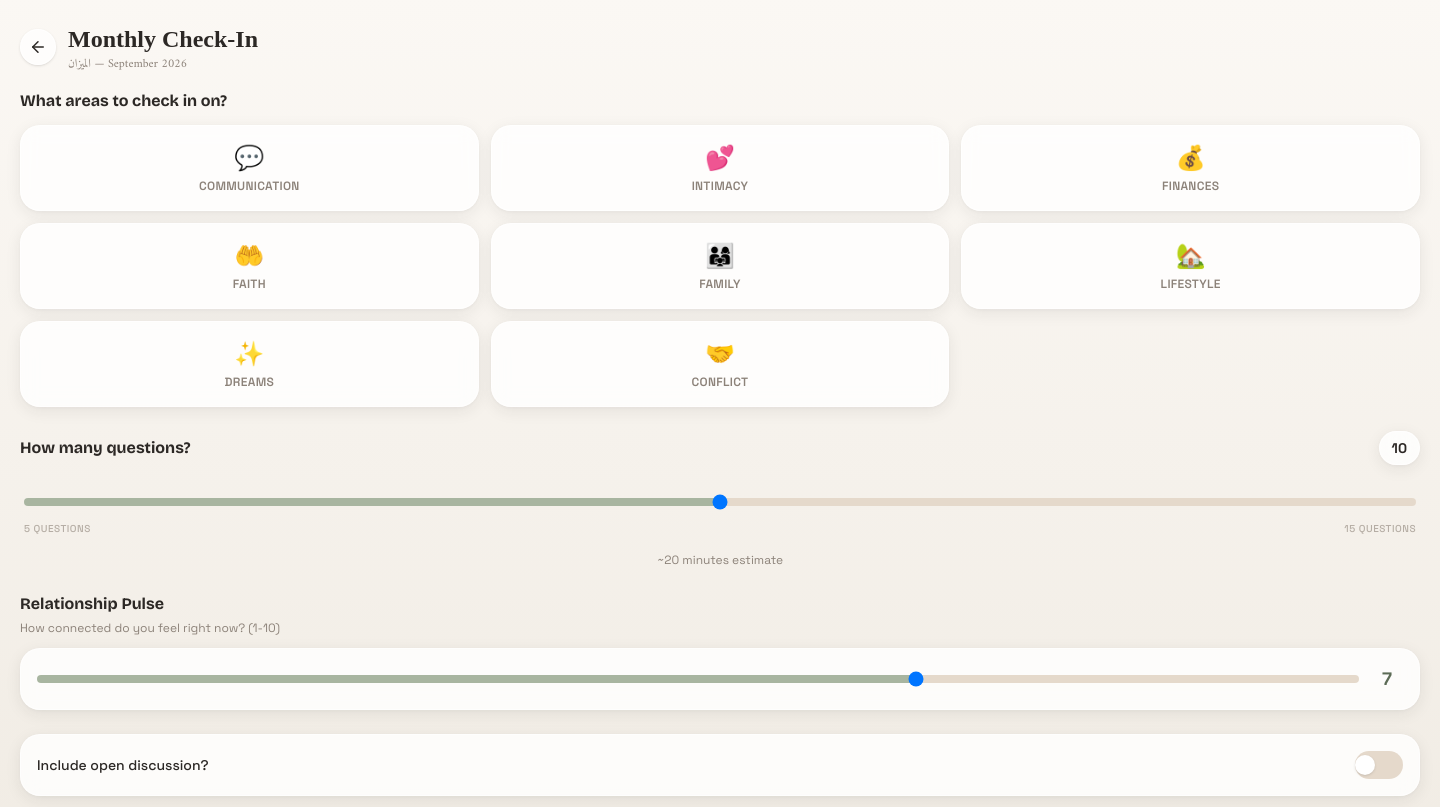
Test case: CheckInSetup › toggles category on repeated click
This screenshot has width=1440, height=807.
Click the text "Communication". click: (249, 186)
box: [199,178,300,194]
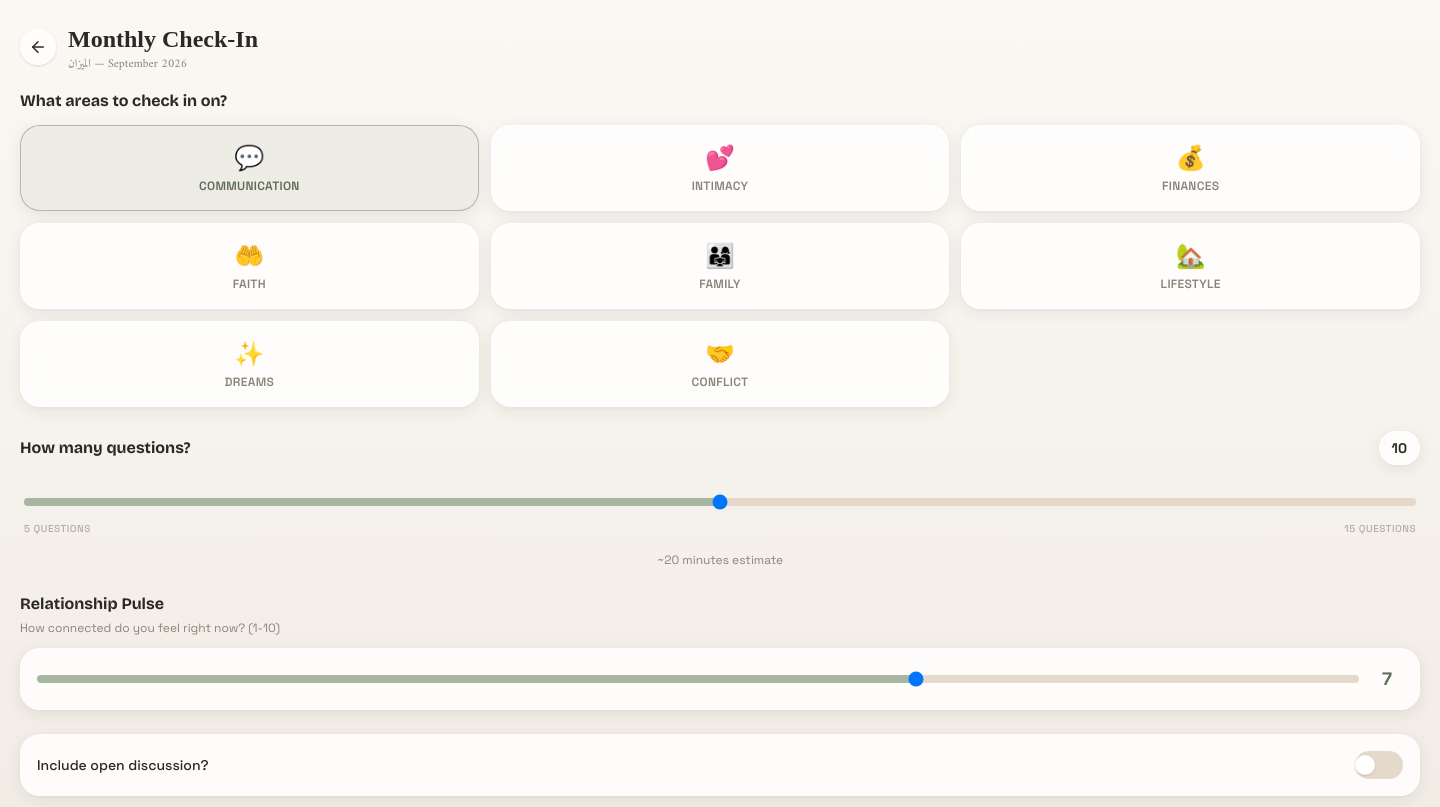
Click the text "Communication". click: (249, 186)
box: [199,178,300,194]
(page scrolled)
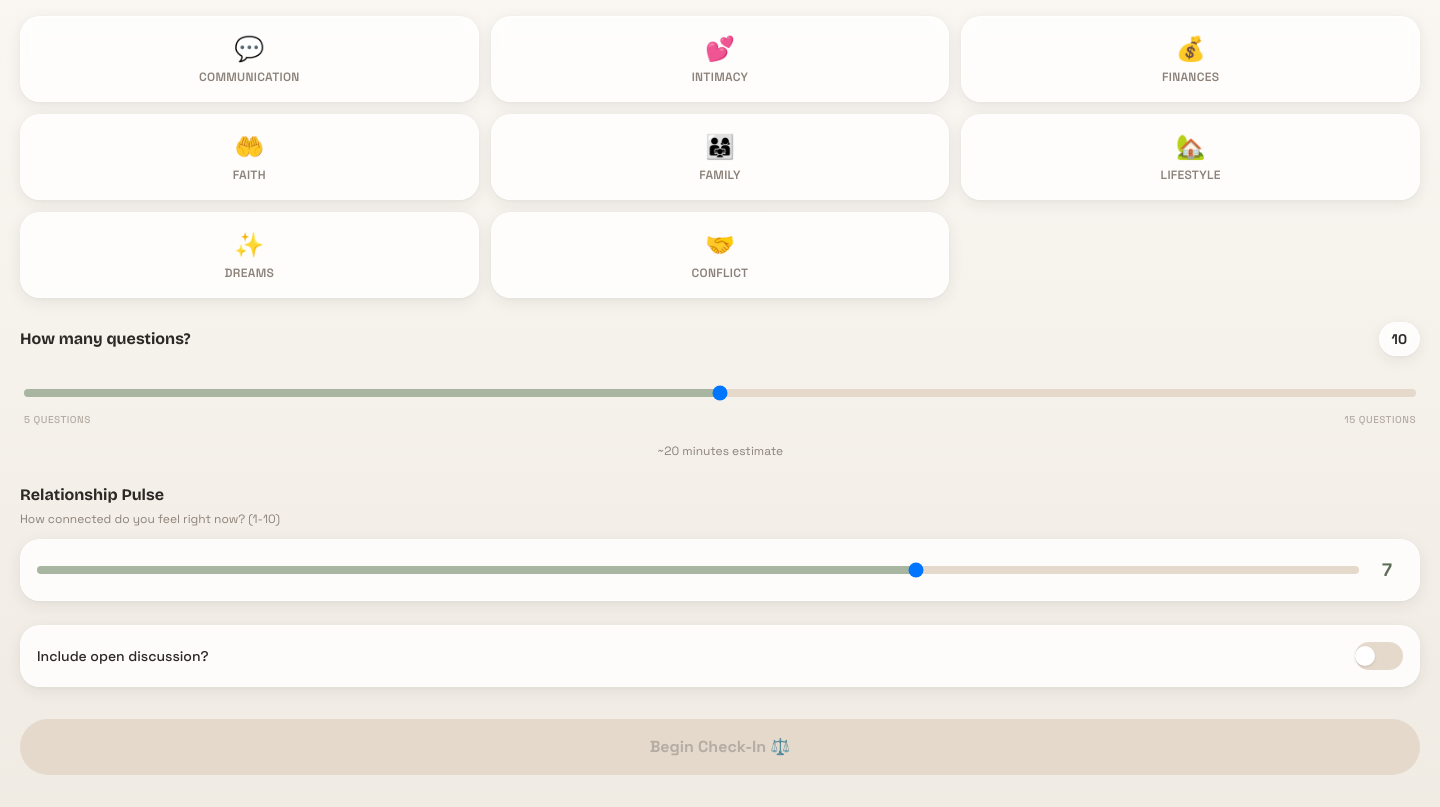
Now the button "Begin Check-In ⚖️" is disabled, box [20,719,1420,775]
